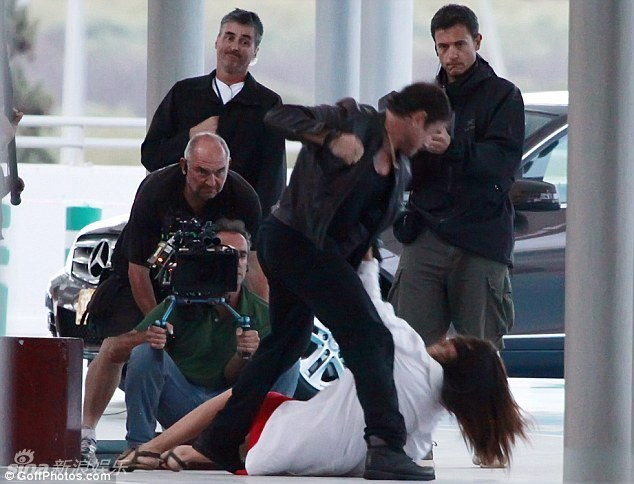fall: (102, 230, 539, 463)
